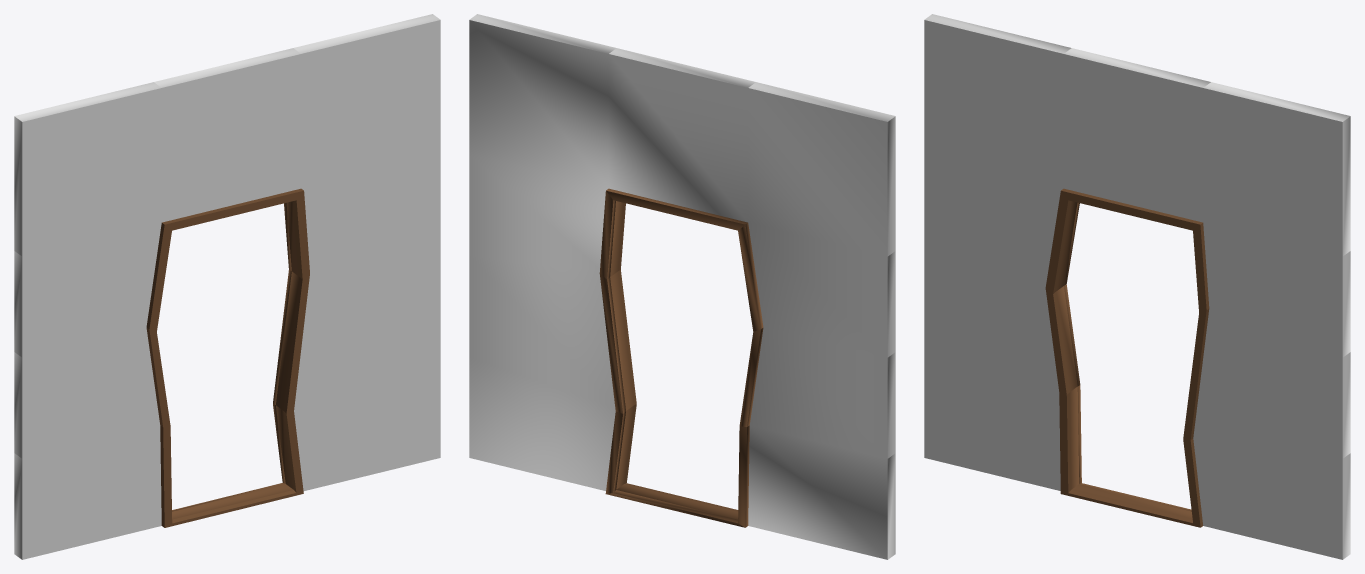
Rendered from DoorFrameInside.fbx.
3 views of the same model, side by side, from view 1: azimuth 30°, elevation 25°; view 2: azimuth 150°, elevation 25°; view 3: azimuth 330°, elevation 25° (orthographic).
Visible parts, largest first — view 1: WallWithDoorFrameInside; view 2: WallWithDoorFrameInside; view 3: WallWithDoorFrameInside.
Part boxes in pixels (x1,y1,x2,y2): WallWithDoorFrameInside: (14,14,440,559); WallWithDoorFrameInside: (469,14,895,559); WallWithDoorFrameInside: (924,14,1350,559).
Size of the model in its own units: 300 by 300 by 17.42.
